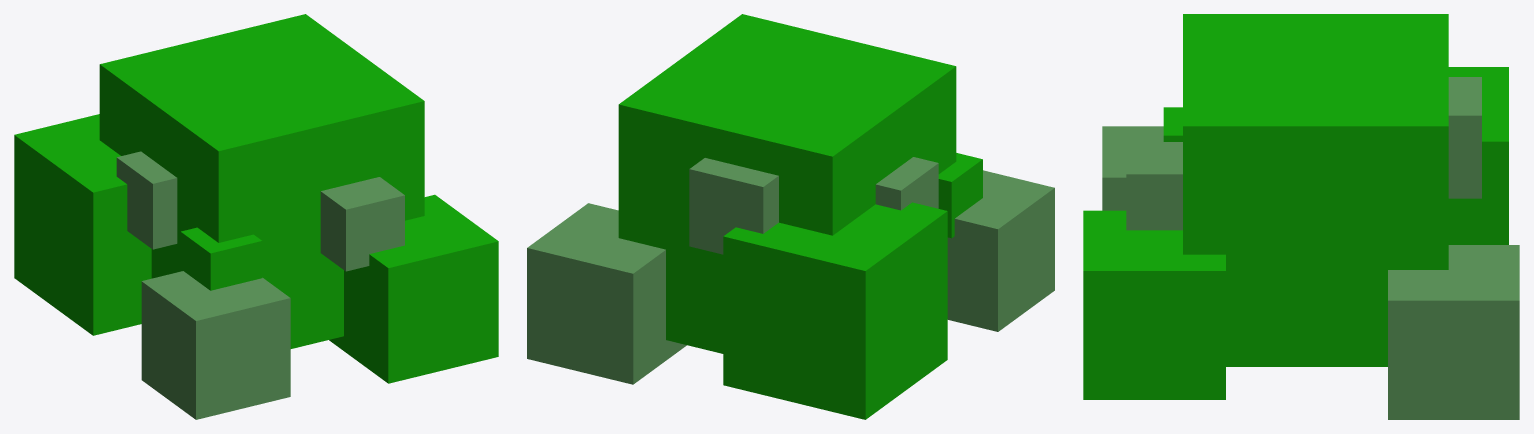
Rendered from Bush.fbx.
3 renders of one model, left to right at view 1: azimuth 30°, elevation 25°; view 2: azimuth 150°, elevation 25°; view 3: azimuth 270°, elevation 25°, orthographic. The views are drawn at different scales.
Parts seen in each view (by area): view 1: Bush_1; view 2: Bush_1; view 3: Bush_1.
Boxes of the visible parts, <box> form: Bush_1: <box>14,14,498,419</box>; Bush_1: <box>527,14,1054,419</box>; Bush_1: <box>1083,14,1519,419</box>.
Size of the model in its own units: 312 by 218 by 328.
